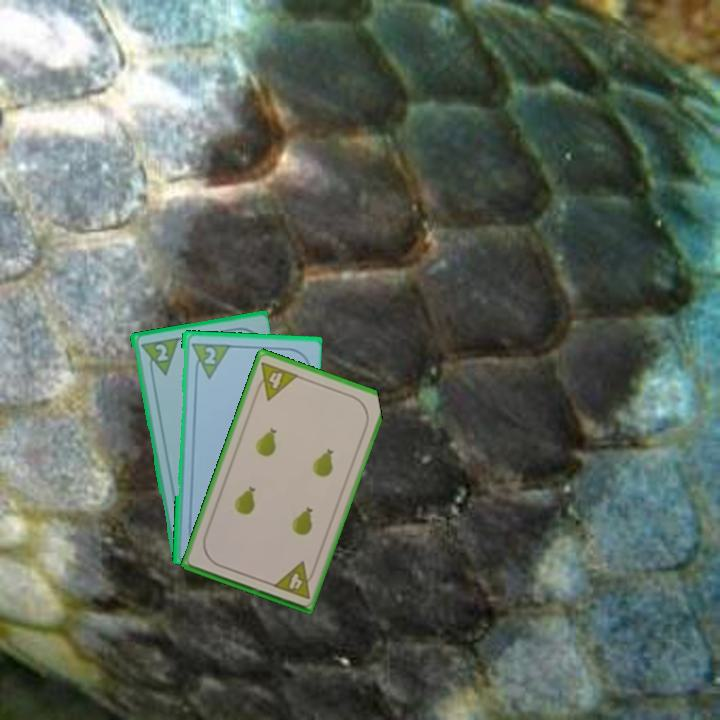2p: (137, 334, 180, 379), (199, 343, 218, 367)
4p: (251, 358, 301, 403), (269, 558, 319, 602)
